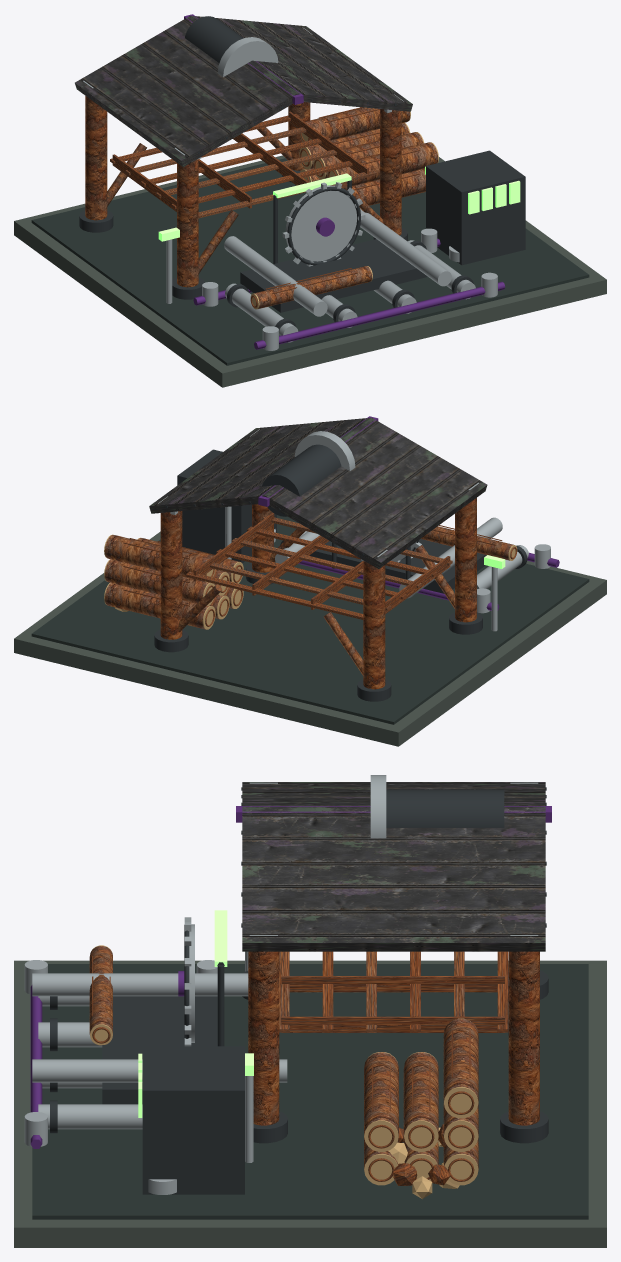
Rendered from timberline_v3_l02.glb.
3 renders of one model, top to bottom at view 1: azimuth 30°, elevation 25°; view 2: azimuth 150°, elevation 25°; view 3: azimuth 270°, elevation 25°, orthographic. The views are drawn at different scales.
Parts seen in each view (by area): view 1: timberline_v3_l02, stone_yard_base, hydraulic_sorter, saw_carriage, circular_saw_blade, saw_safety_light; view 2: timberline_v3_l02, stone_yard_base, hydraulic_sorter, saw_carriage; view 3: timberline_v3_l02, stone_yard_base, hydraulic_sorter, saw_carriage, saw_safety_light, roof_spine.
Boxes of the visible parts, x1,y1,x2,y2 form: timberline_v3_l02: (31,15,589,365); stone_yard_base: (14,155,606,387); hydraulic_sorter: (426,150,525,265); saw_carriage: (240,239,427,312); circular_saw_blade: (285,185,356,261); saw_safety_light: (273,173,351,198); timberline_v3_l02: (31,417,589,724); stone_yard_base: (14,531,606,746); hydraulic_sorter: (177,449,276,563); saw_carriage: (309,539,486,593); timberline_v3_l02: (24,775,588,1219); stone_yard_base: (14,960,606,1247); hydraulic_sorter: (142,1046,244,1194); saw_carriage: (102,996,217,1104); saw_safety_light: (214,910,227,966); roof_spine: (236,806,551,822).
Bounding box in the file's own units: 6.5 × 3.5 × 6.1.
10 materials, 3 textured.
